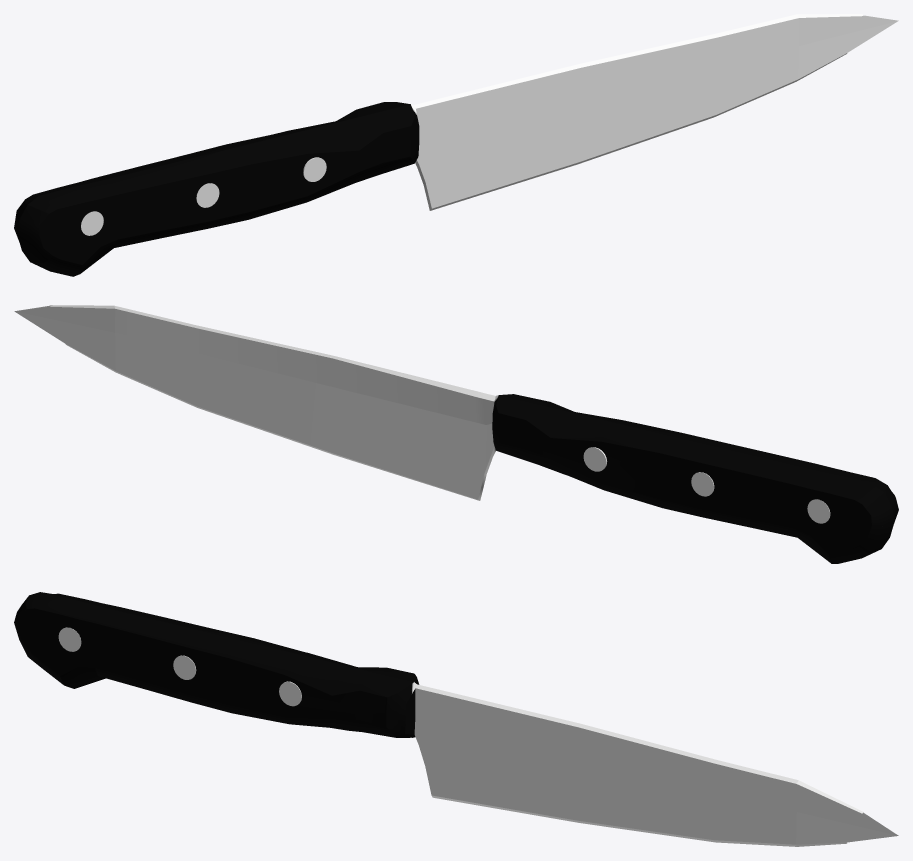
The model's file is Knife.fbx.
The picture shows the model from 3 angles, top to bottom: view 1: azimuth 30°, elevation 25°; view 2: azimuth 150°, elevation 25°; view 3: azimuth 330°, elevation 25°; orthographic projection.
Parts seen in each view (by area): view 1: polySurface2; view 2: polySurface2; view 3: polySurface2.
Part boxes in pixels (x1=…): polySurface2: x1=14, y1=14, x2=898, y2=276; polySurface2: x1=14, y1=305, x2=898, y2=563; polySurface2: x1=14, y1=592, x2=898, y2=846.
Size of the model in its own units: 16.13 by 1.96 by 0.9626.
1 material, 1 textured.
